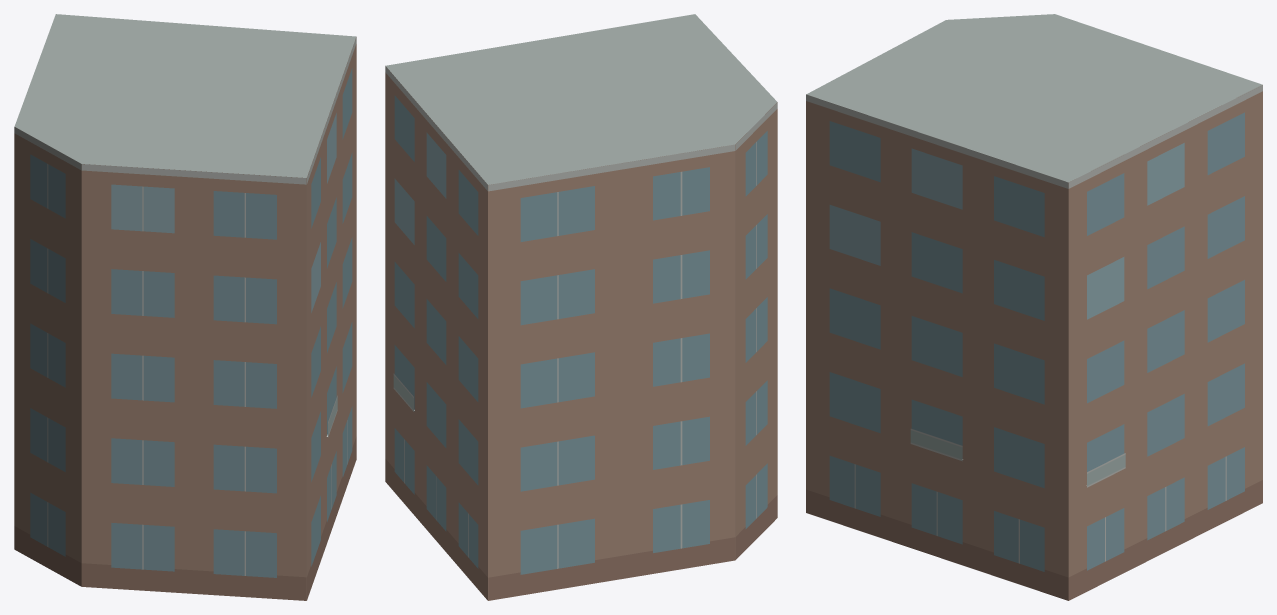
File: survey-upis-32917510.glb
3 renders of one model, left to right at view 1: azimuth 30°, elevation 25°; view 2: azimuth 150°, elevation 25°; view 3: azimuth 270°, elevation 25°, orthographic.
Visible parts, largest first — view 1: survey-upis-32917510.tmp; view 2: survey-upis-32917510.tmp; view 3: survey-upis-32917510.tmp.
Boxes of the visible parts, left/top/right/bottom form: survey-upis-32917510.tmp: left=14, top=14, right=356, bottom=600; survey-upis-32917510.tmp: left=385, top=14, right=777, bottom=600; survey-upis-32917510.tmp: left=806, top=14, right=1262, bottom=600.
Bounding box in the file's own units: 13.52 × 15.65 × 15.49.
